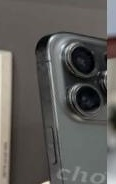scratch: (28, 43, 59, 103)
